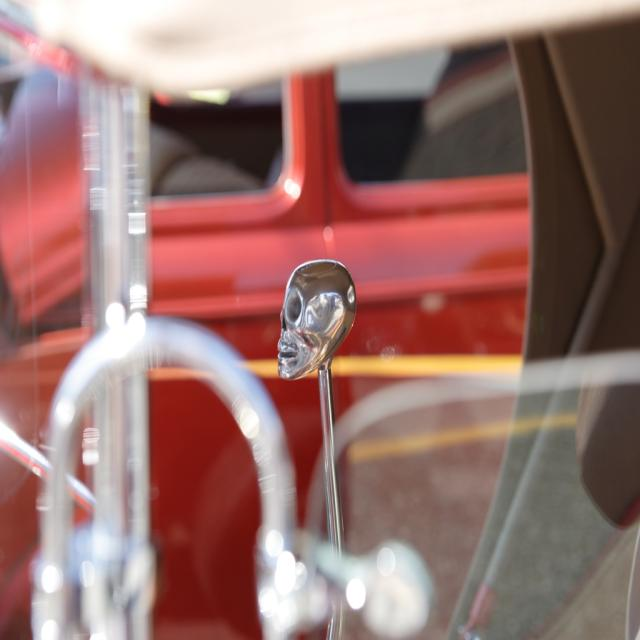car: (0, 0, 618, 638)
